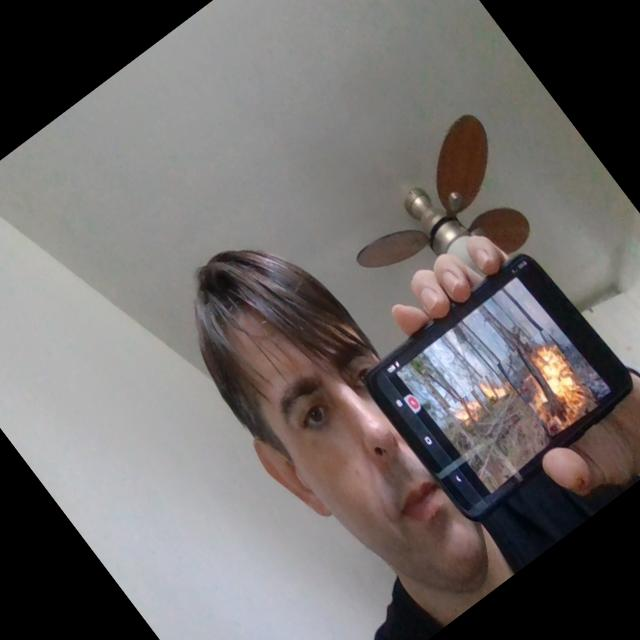Fire: (496, 329, 602, 440), (448, 390, 492, 432), (475, 370, 510, 406)
